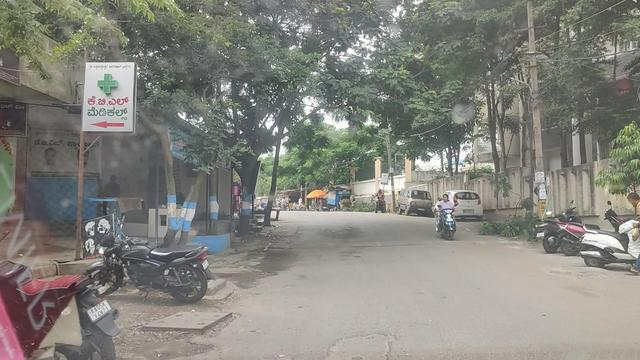LMV: (434, 195, 457, 239)
RoadDamages: (309, 329, 408, 360)
